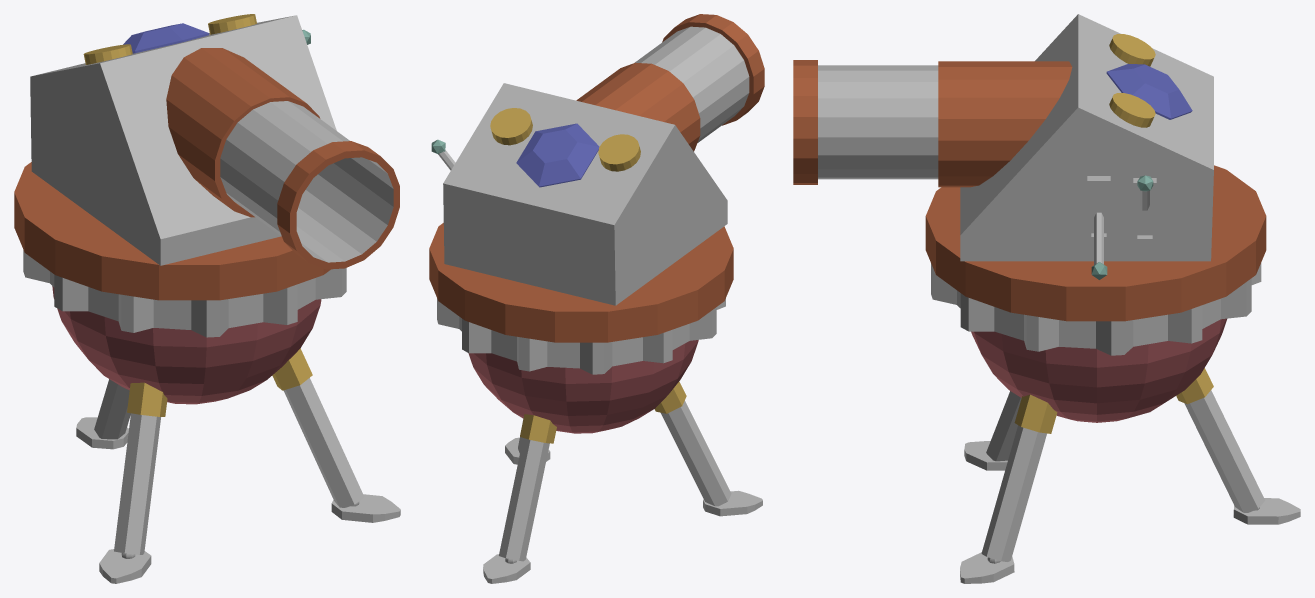
Rendered from Turret 1.fbx.
3 renders of one model, left to right at view 1: azimuth 30°, elevation 25°; view 2: azimuth 150°, elevation 25°; view 3: azimuth 270°, elevation 25°, orthographic. The views are drawn at different scales.
Visible parts, largest first — view 1: Cube.001, Cylinder.013, Cylinder.007, Sphere, Cylinder.012, Cylinder.006, Leg, Leg.001, Leg.002, Helmet.003, Feet.001, Feet (+3 smaller); view 2: Cube.001, Cylinder.007, Sphere, Cylinder.013, Cylinder.006, Cylinder.012, Leg.002, Helmet.003, Leg, Cylinder.009, Cylinder.008, Feet.002 (+1 smaller); view 3: Cube.001, Cylinder.007, Cylinder.013, Sphere, Cylinder.012, Cylinder.006, Leg.001, Leg.002, Helmet.003, Leg, Feet.002, Feet.001 (+3 smaller).
Part boxes in pixels (x1=…): Cube.001: x1=30, y1=15, x2=336, y2=265; Cylinder.013: x1=220, y1=101, x2=399, y2=269; Cylinder.007: x1=14, y1=162, x2=330, y2=300; Sphere: x1=52, y1=286, x2=321, y2=404; Cylinder.012: x1=166, y1=48, x2=320, y2=217; Cylinder.006: x1=23, y1=250, x2=346, y2=337; Leg: x1=114, y1=382, x2=167, y2=554; Leg.001: x1=272, y1=348, x2=364, y2=507; Leg.002: x1=94, y1=379, x2=130, y2=439; Helmet.003: x1=123, y1=23, x2=208, y2=53; Feet.001: x1=331, y1=494, x2=400, y2=522; Feet: x1=99, y1=549, x2=151, y2=583; Cube.001: x1=443, y1=83, x2=727, y2=305; Cylinder.007: x1=429, y1=223, x2=733, y2=342; Sphere: x1=468, y1=340, x2=698, y2=433; Cylinder.013: x1=634, y1=14, x2=764, y2=142; Cylinder.006: x1=437, y1=298, x2=725, y2=374; Cylinder.012: x1=576, y1=62, x2=700, y2=151; Leg.002: x1=499, y1=414, x2=556, y2=561; Helmet.003: x1=516, y1=123, x2=599, y2=187; Leg: x1=654, y1=381, x2=731, y2=506; Cylinder.009: x1=598, y1=134, x2=640, y2=171; Cylinder.008: x1=490, y1=108, x2=532, y2=145; Feet.002: x1=483, y1=554, x2=530, y2=583; Cube.001: x1=960, y1=14, x2=1213, y2=261; Cylinder.007: x1=925, y1=165, x2=1266, y2=321; Cylinder.013: x1=793, y1=60, x2=938, y2=184; Sphere: x1=971, y1=318, x2=1226, y2=422; Cylinder.012: x1=938, y1=61, x2=1072, y2=187; Cylinder.006: x1=931, y1=263, x2=1261, y2=355; Leg.001: x1=981, y1=394, x2=1057, y2=561; Leg.002: x1=1176, y1=368, x2=1264, y2=512; Helmet.003: x1=1106, y1=63, x2=1192, y2=119; Leg: x1=986, y1=391, x2=1021, y2=461; Feet.002: x1=1233, y1=498, x2=1300, y2=524; Feet.001: x1=960, y1=552, x2=1014, y2=583.
Bounding box in the file's own units: 77.2 × 114 × 115.
